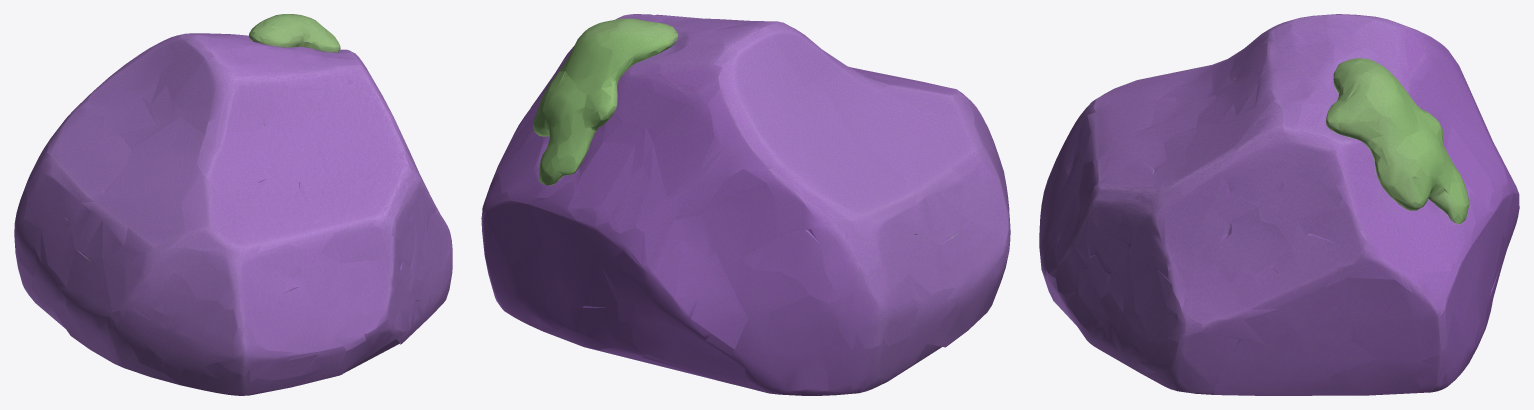
The picture shows the model from 3 angles, left to right: view 1: azimuth 30°, elevation 25°; view 2: azimuth 150°, elevation 25°; view 3: azimuth 270°, elevation 25°; orthographic projection. The views are drawn at different scales.
Parts seen in each view (by area): view 1: island-rock-v1-1.002; view 2: island-rock-v1-1.002; view 3: island-rock-v1-1.002.
Part boxes in pixels (left/top/right/bottom): island-rock-v1-1.002: left=14, top=14, right=452, bottom=395; island-rock-v1-1.002: left=481, top=14, right=1010, bottom=395; island-rock-v1-1.002: left=1039, top=14, right=1519, bottom=395.
Bounding box in the file's own units: 1.2 × 0.8 × 1.24.
Materials: 1 (1 with a texture image).
